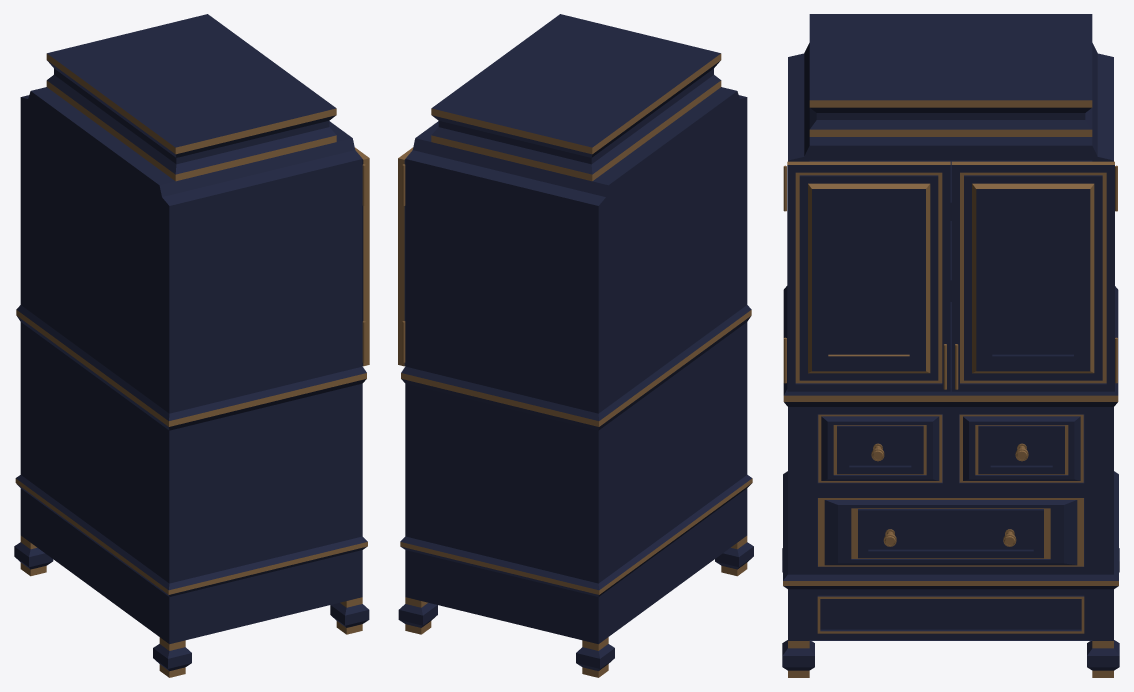
Rendered from Closet.fbx.
The picture shows the model from 3 angles, left to right: view 1: azimuth 30°, elevation 25°; view 2: azimuth 150°, elevation 25°; view 3: azimuth 270°, elevation 25°; orthographic projection. The views are drawn at different scales.
Parts seen in each view (by area): view 1: Cube, Cube.004; view 2: Cube, Cube.005; view 3: Cube, Cube.004, Cube.005, Cube.003, Cube.002, Cube.001.
Boxes of the visible parts, x1=… form: Cube: x1=14, y1=14, x2=369, y2=677; Cube.004: x1=354, y1=147, x2=369, y2=366; Cube: x1=398, y1=14, x2=753, y2=677; Cube.005: x1=398, y1=147, x2=413, y2=366; Cube: x1=782, y1=14, x2=1119, y2=677; Cube.004: x1=787, y1=161, x2=950, y2=391; Cube.005: x1=951, y1=161, x2=1114, y2=391; Cube.003: x1=818, y1=498, x2=1083, y2=566; Cube.002: x1=818, y1=414, x2=942, y2=482; Cube.001: x1=959, y1=414, x2=1083, y2=482.
Size of the model in its own units: 328 by 770 by 413.
